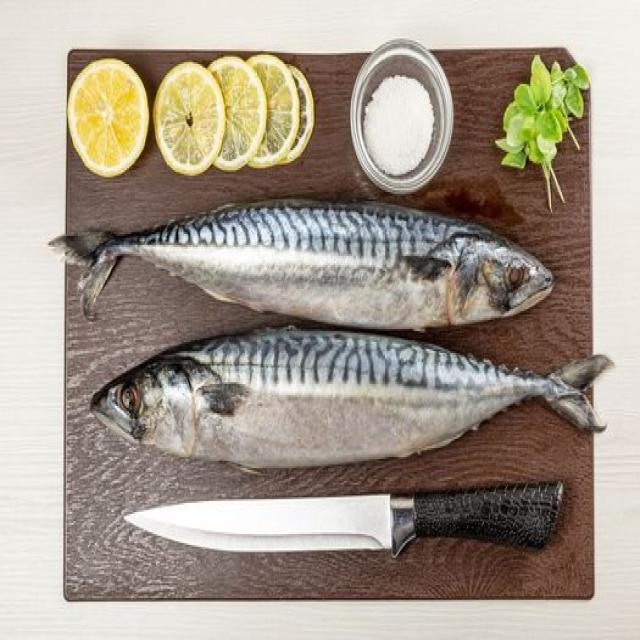knife: (123, 457, 574, 572)
